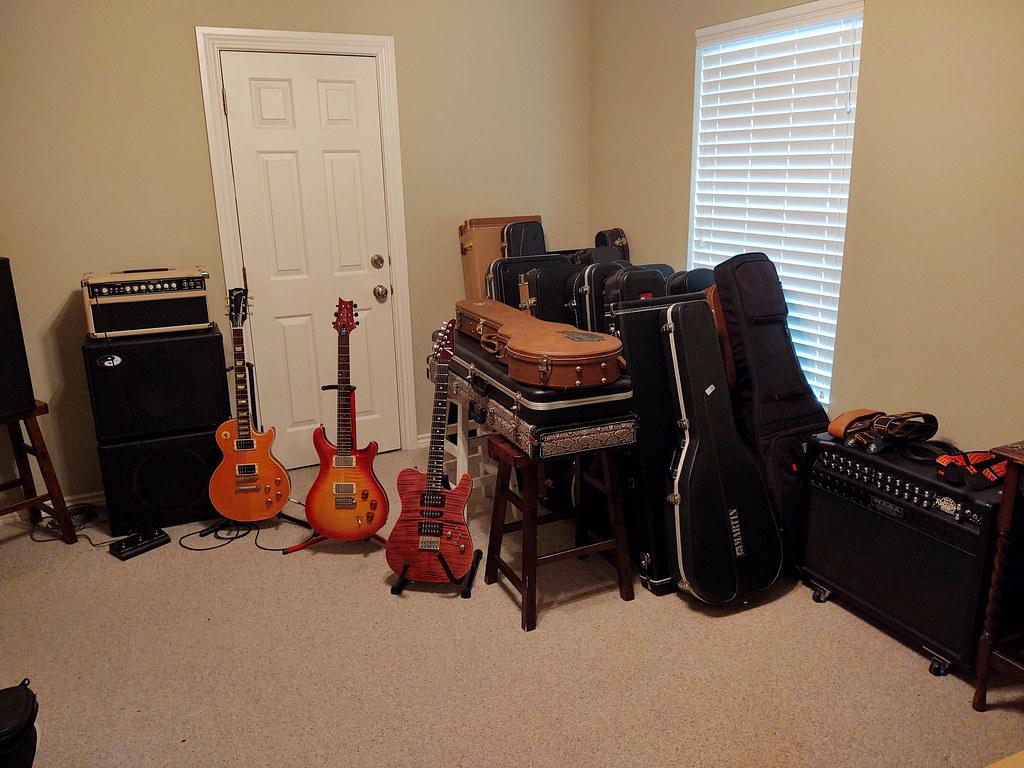acousticguitar: (387, 317, 474, 585), (308, 298, 389, 543), (210, 285, 293, 523)
